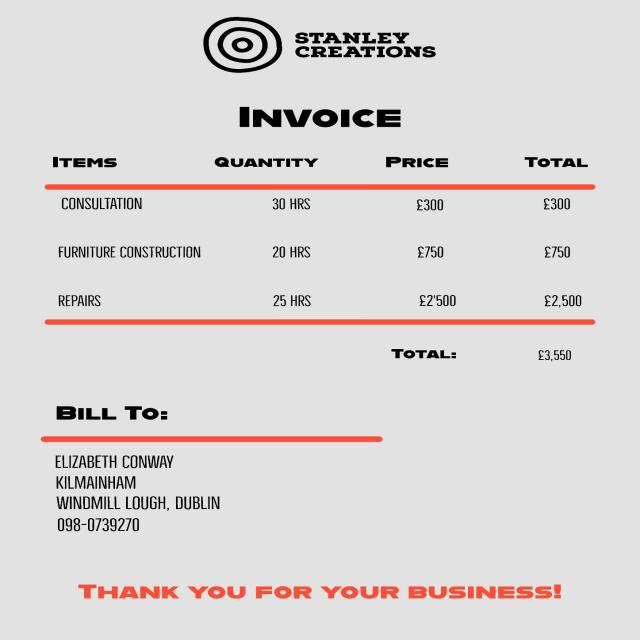paragraph: (38, 394, 248, 546), (66, 574, 574, 606), (233, 93, 429, 134), (280, 18, 460, 60), (385, 334, 592, 370)
table: (37, 140, 602, 316)
